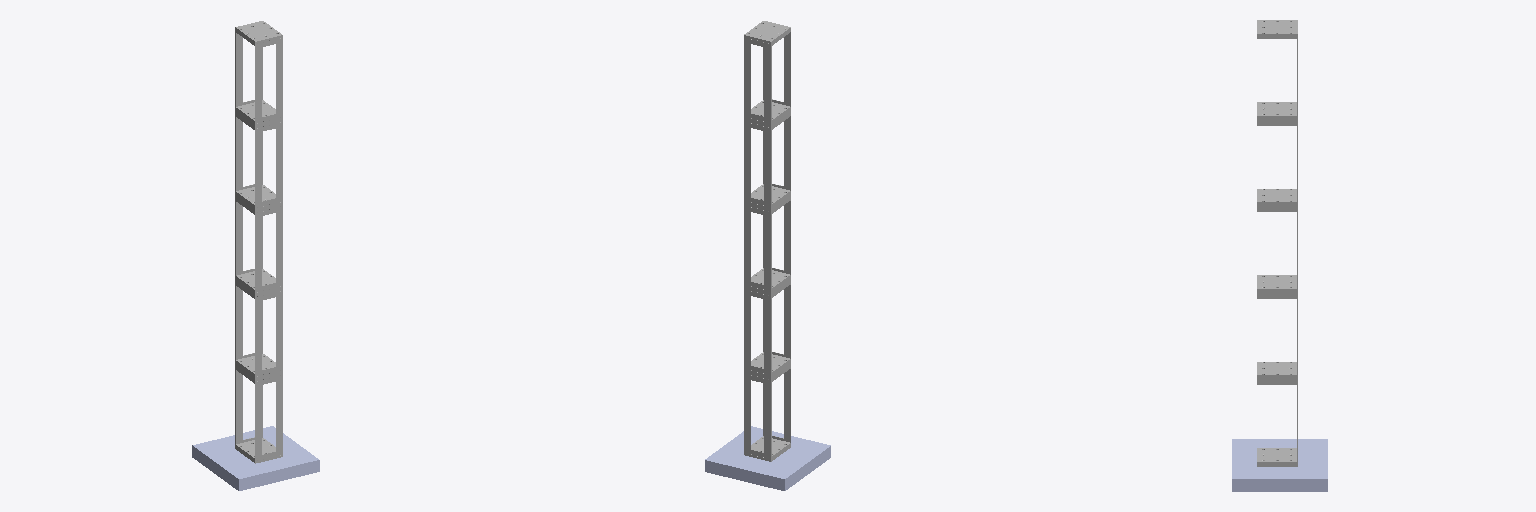
robot.urdf — gsim_urdf_pkg:
<?xml version="1.0" encoding="utf-8"?>
<!-- This URDF was automatically created by SolidWorks to URDF Exporter! Originally created by [author] ([email redacted]) 
     Commit Version: 1.6.0-4-g7f85cfe  Build Version: 1.6.7995.38578
     For more information, please see http://wiki.ros.org/sw_urdf_exporter -->
<robot
  name="gsim_urdf_pkg">
  <link
    name="base_link">
    <inertial>
      <origin
        xyz="-4.7634E-17 2.2091E-17 0.025"
        rpy="0 0 0" />
      <mass
        value="6.125" />
      <inertia
        ixx="0.063802"
        ixy="-1.1587E-17"
        ixz="-4.2248E-19"
        iyy="0.063802"
        iyz="7.4848E-35"
        izz="0.12505" />
    </inertial>
    <visual>
      <origin
        xyz="0 0 0"
        rpy="0 0 0" />
      <geometry>
        <mesh
          filename="package://gsim_urdf_pkg/meshes/base_link.STL" />
      </geometry>
      <material
        name="">
        <color
          rgba="0.79216 0.81961 0.93333 1" />
      </material>
    </visual>
    <collision>
      <origin
        xyz="0 0 0"
        rpy="0 0 0" />
      <geometry>
        <mesh
          filename="package://gsim_urdf_pkg/meshes/base_link.STL" />
      </geometry>
    </collision>
  </link>
  <link
    name="first_link">
    <inertial>
      <origin
        xyz="0.060001 0.073 0.17496"
        rpy="0 0 0" />
      <mass
        value="5.2657" />
      <inertia
        ixx="0.012714"
        ixy="-1.2779E-07"
        ixz="-4.0422E-08"
        iyy="0.0098435"
        iyz="-1.3314E-08"
        izz="0.015733" />
    </inertial>
    <visual>
      <origin
        xyz="0 0 0"
        rpy="0 0 0" />
      <geometry>
        <mesh
          filename="package://gsim_urdf_pkg/meshes/first_link.STL" />
      </geometry>
      <material
        name="">
        <color
          rgba="0.75294 0.75294 0.75294 1" />
      </material>
    </visual>
    <collision>
      <origin
        xyz="0 0 0"
        rpy="0 0 0" />
      <geometry>
        <mesh
          filename="package://gsim_urdf_pkg/meshes/first_link.STL" />
      </geometry>
    </collision>
  </link>
  <joint
    name="Joint_First"
    type="fixed">
    <origin
      xyz="-0.051662 -0.082969 0.05"
      rpy="0 0 0" />
    <parent
      link="base_link" />
    <child
      link="first_link" />
    <axis
      xyz="0 0 0" />
  </joint>
  <link
    name="second_link">
    <inertial>
      <origin
        xyz="0.060001 0.075 0.17496"
        rpy="0 0 0" />
      <mass
        value="5.2657" />
      <inertia
        ixx="0.012714"
        ixy="-1.2779E-07"
        ixz="-4.0422E-08"
        iyy="0.0098435"
        iyz="-1.3314E-08"
        izz="0.015733" />
    </inertial>
    <visual>
      <origin
        xyz="0 0 0"
        rpy="0 0 0" />
      <geometry>
        <mesh
          filename="package://gsim_urdf_pkg/meshes/second_link.STL" />
      </geometry>
      <material
        name="">
        <color
          rgba="0.75294 0.75294 0.75294 1" />
      </material>
    </visual>
    <collision>
      <origin
        xyz="0 0 0"
        rpy="0 0 0" />
      <geometry>
        <mesh
          filename="package://gsim_urdf_pkg/meshes/second_link.STL" />
      </geometry>
    </collision>
  </link>
  <joint
    name="Joint_Second"
    type="prismatic">
    <origin
      xyz="0 -0.002 0.35"
      rpy="0 0 0" />
    <parent
      link="first_link" />
    <child
      link="second_link" />
    <axis
      xyz="1 0 0" />
    <limit
      lower="-0.1"
      upper="0.1"
      effort="10"
      velocity="2" />
  </joint>
  <link
    name="third_link">
    <inertial>
      <origin
        xyz="0.060001 0.075 0.17496"
        rpy="0 0 0" />
      <mass
        value="5.2657" />
      <inertia
        ixx="0.012714"
        ixy="-1.2779E-07"
        ixz="-4.0422E-08"
        iyy="0.0098435"
        iyz="-1.3314E-08"
        izz="0.015733" />
    </inertial>
    <visual>
      <origin
        xyz="0 0 0"
        rpy="0 0 0" />
      <geometry>
        <mesh
          filename="package://gsim_urdf_pkg/meshes/third_link.STL" />
      </geometry>
      <material
        name="">
        <color
          rgba="0.75294 0.75294 0.75294 1" />
      </material>
    </visual>
    <collision>
      <origin
        xyz="0 0 0"
        rpy="0 0 0" />
      <geometry>
        <mesh
          filename="package://gsim_urdf_pkg/meshes/third_link.STL" />
      </geometry>
    </collision>
  </link>
  <joint
    name="Joint_Third"
    type="prismatic">
    <origin
      xyz="0 0 0.35"
      rpy="0 0 0" />
    <parent
      link="second_link" />
    <child
      link="third_link" />
    <axis
      xyz="1 0 0" />
    <limit
      lower="-0.1"
      upper="0.1"
      effort="10"
      velocity="2" />
  </joint>
  <link
    name="fourth_link">
    <inertial>
      <origin
        xyz="0.060001 0.074 0.17496"
        rpy="0 0 0" />
      <mass
        value="5.2657" />
      <inertia
        ixx="0.012714"
        ixy="-1.2779E-07"
        ixz="-4.0422E-08"
        iyy="0.0098435"
        iyz="-1.3314E-08"
        izz="0.015733" />
    </inertial>
    <visual>
      <origin
        xyz="0 0 0"
        rpy="0 0 0" />
      <geometry>
        <mesh
          filename="package://gsim_urdf_pkg/meshes/fourth_link.STL" />
      </geometry>
      <material
        name="">
        <color
          rgba="0.75294 0.75294 0.75294 1" />
      </material>
    </visual>
    <collision>
      <origin
        xyz="0 0 0"
        rpy="0 0 0" />
      <geometry>
        <mesh
          filename="package://gsim_urdf_pkg/meshes/fourth_link.STL" />
      </geometry>
    </collision>
  </link>
  <joint
    name="Joint_Fourth"
    type="prismatic">
    <origin
      xyz="0 0.001 0.35"
      rpy="0 0 0" />
    <parent
      link="third_link" />
    <child
      link="fourth_link" />
    <axis
      xyz="1 0 0" />
    <limit
      lower="-0.1"
      upper="0.1"
      effort="10"
      velocity="2" />
  </joint>
  <link
    name="fifth_link">
    <inertial>
      <origin
        xyz="0.060001 0.075 0.17496"
        rpy="0 0 0" />
      <mass
        value="5.2657" />
      <inertia
        ixx="0.012714"
        ixy="-1.2779E-07"
        ixz="-4.0422E-08"
        iyy="0.0098435"
        iyz="-1.3314E-08"
        izz="0.015733" />
    </inertial>
    <visual>
      <origin
        xyz="0 0 0"
        rpy="0 0 0" />
      <geometry>
        <mesh
          filename="package://gsim_urdf_pkg/meshes/fifth_link.STL" />
      </geometry>
      <material
        name="">
        <color
          rgba="0.75294 0.75294 0.75294 1" />
      </material>
    </visual>
    <collision>
      <origin
        xyz="0 0 0"
        rpy="0 0 0" />
      <geometry>
        <mesh
          filename="package://gsim_urdf_pkg/meshes/fifth_link.STL" />
      </geometry>
    </collision>
  </link>
  <joint
    name="Joint_Fifth"
    type="prismatic">
    <origin
      xyz="0 -0.001 0.35"
      rpy="0 0 0" />
    <parent
      link="fourth_link" />
    <child
      link="fifth_link" />
    <axis
      xyz="1 0 0" />
    <limit
      lower="-0.1"
      upper="0.1"
      effort="10"
      velocity="2" />
  </joint>
</robot>

--- What the picture shows (computed from the rendered views, not written in the file) ---
Views: 3 orthographic renders of the robot side by side, from view 1: azimuth 30°, elevation 25°; view 2: azimuth 150°, elevation 25°; view 3: azimuth 270°, elevation 25°.
Robot: gsim_urdf_pkg — 6 links, 5 joints (4 prismatic, 1 fixed); root link base_link; default pose: all joints at 0.
Visible links, largest first — view 1: base_link, fifth_link, first_link, third_link, second_link, fourth_link; view 2: base_link, fifth_link, second_link, first_link, fourth_link, third_link; view 3: base_link, fifth_link, first_link, third_link, second_link, fourth_link.
Link boxes in pixels (x1=…): base_link: x1=192, y1=426, x2=319, y2=490; fifth_link: x1=235, y1=21, x2=282, y2=125; first_link: x1=235, y1=365, x2=282, y2=463; third_link: x1=235, y1=196, x2=282, y2=294; second_link: x1=235, y1=280, x2=282, y2=378; fourth_link: x1=235, y1=112, x2=282, y2=210; base_link: x1=705, y1=426, x2=830, y2=490; fifth_link: x1=744, y1=21, x2=790, y2=125; second_link: x1=744, y1=280, x2=790, y2=377; first_link: x1=744, y1=364, x2=790, y2=461; fourth_link: x1=744, y1=112, x2=790, y2=209; third_link: x1=744, y1=196, x2=790, y2=293; base_link: x1=1232, y1=439, x2=1327, y2=491; fifth_link: x1=1257, y1=20, x2=1297, y2=120; first_link: x1=1257, y1=380, x2=1297, y2=466; third_link: x1=1257, y1=207, x2=1297, y2=293; second_link: x1=1257, y1=294, x2=1297, y2=379; fourth_link: x1=1257, y1=121, x2=1297, y2=206.
Bounding box of the posed robot: 0.35 × 0.35 × 1.8 m (x, y, z).
6 mesh visuals loaded from 6 distinct referenced files (6 binary STL).